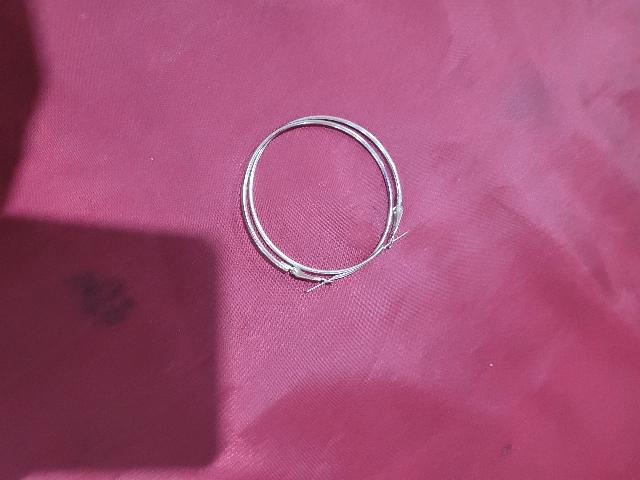Metal: (238, 114, 419, 293)
